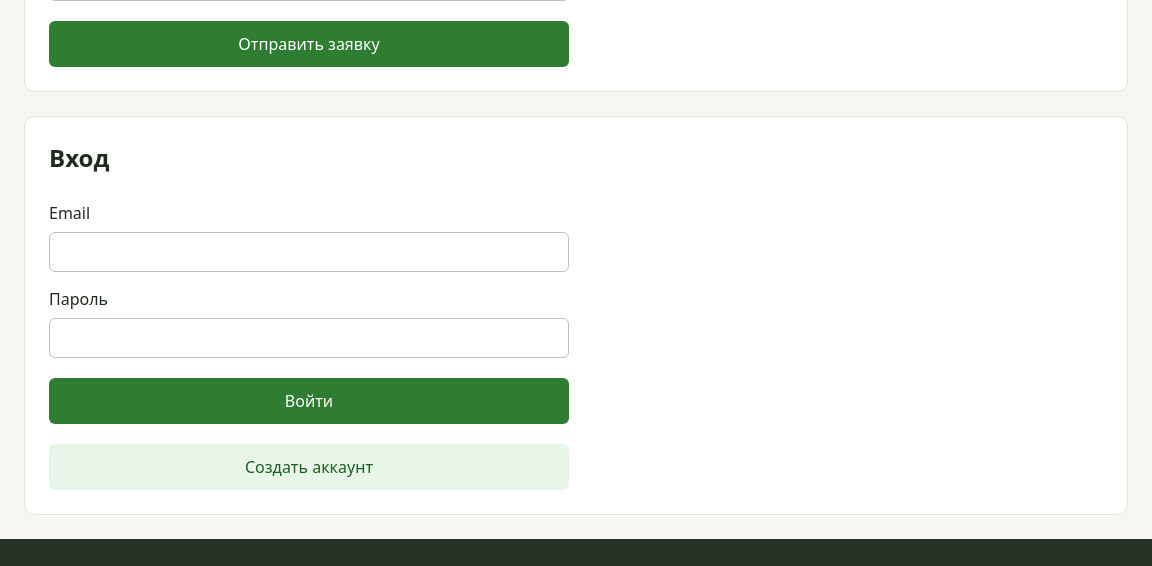
вход сохраняет аккаунт, выход удаляет его
(page scrolled)
Type "anna@example.test" into the field labelled "Email".
click(309, 252); type("anna@example.test")  # box [49,232,569,272]
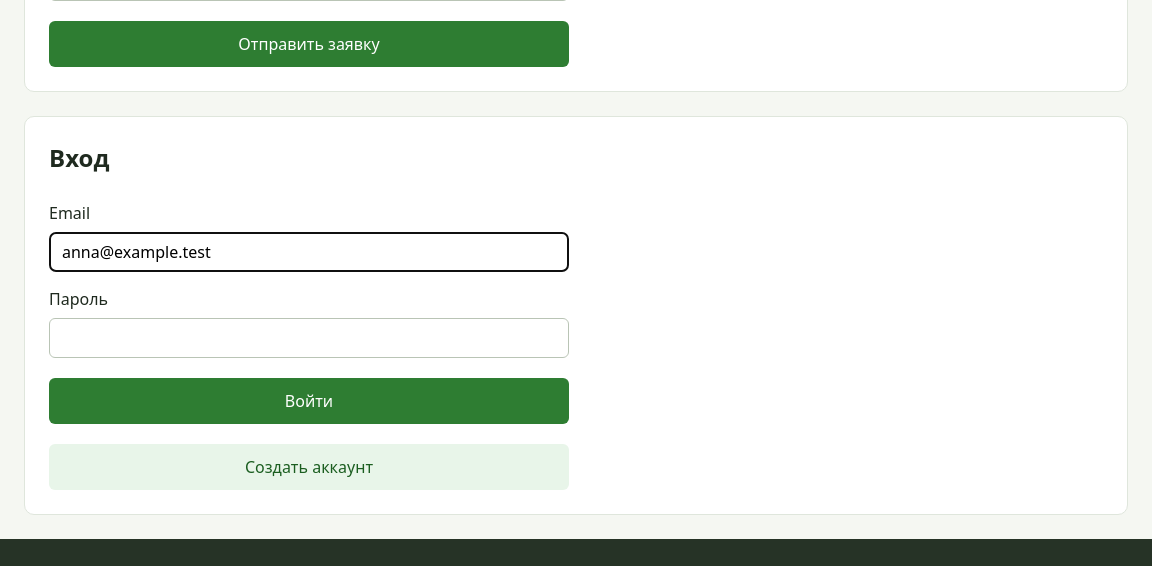
Type "Password-123" into the password field labelled "Пароль".
click(309, 338); type("Password-123")  # box [49,318,569,358]
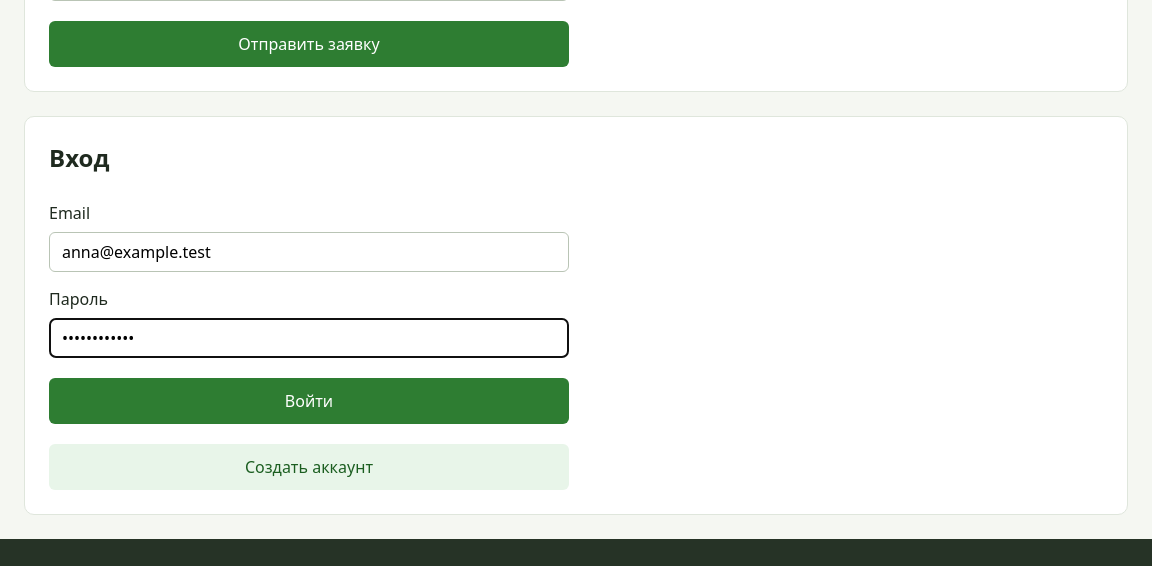
Click the button "Войти".
click(309, 401)  # box [49,378,569,424]
(page scrolled)
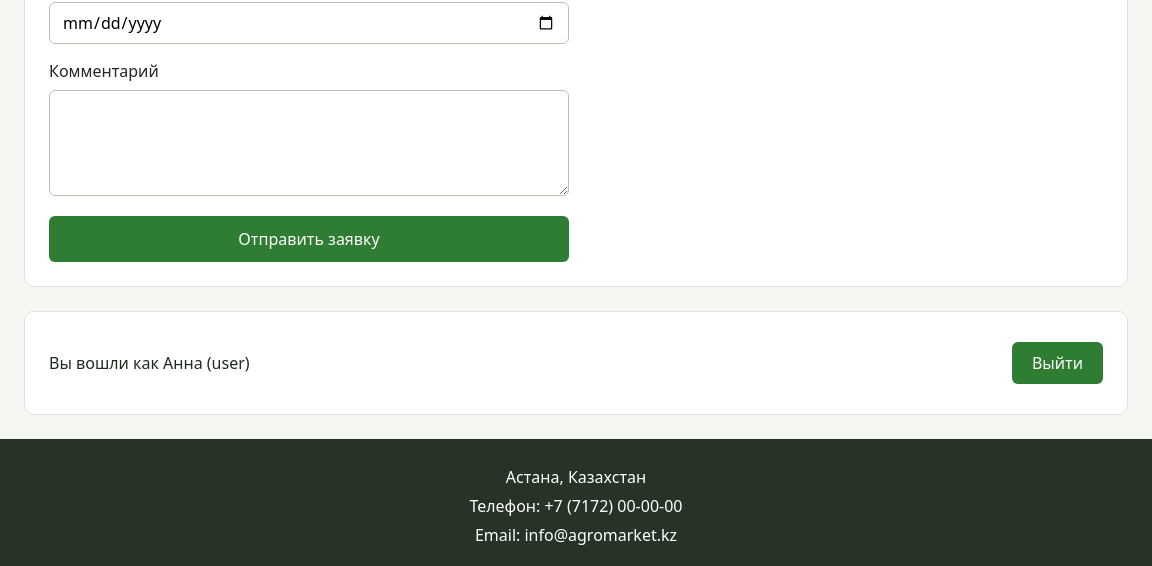
Now the text "Вы вошли как Анна (user)" is shown, box [49,352,250,374]
Click the button "Выйти".
click(1058, 363)  # box [1012,342,1103,384]
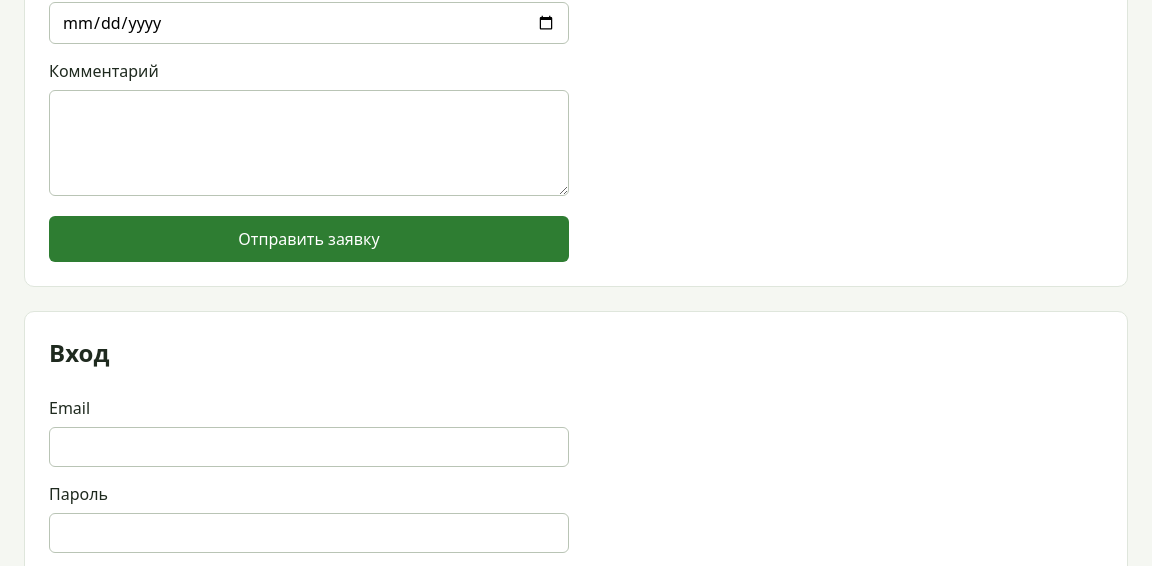
Now the heading "Вход" is shown, box [49,336,109,369]
